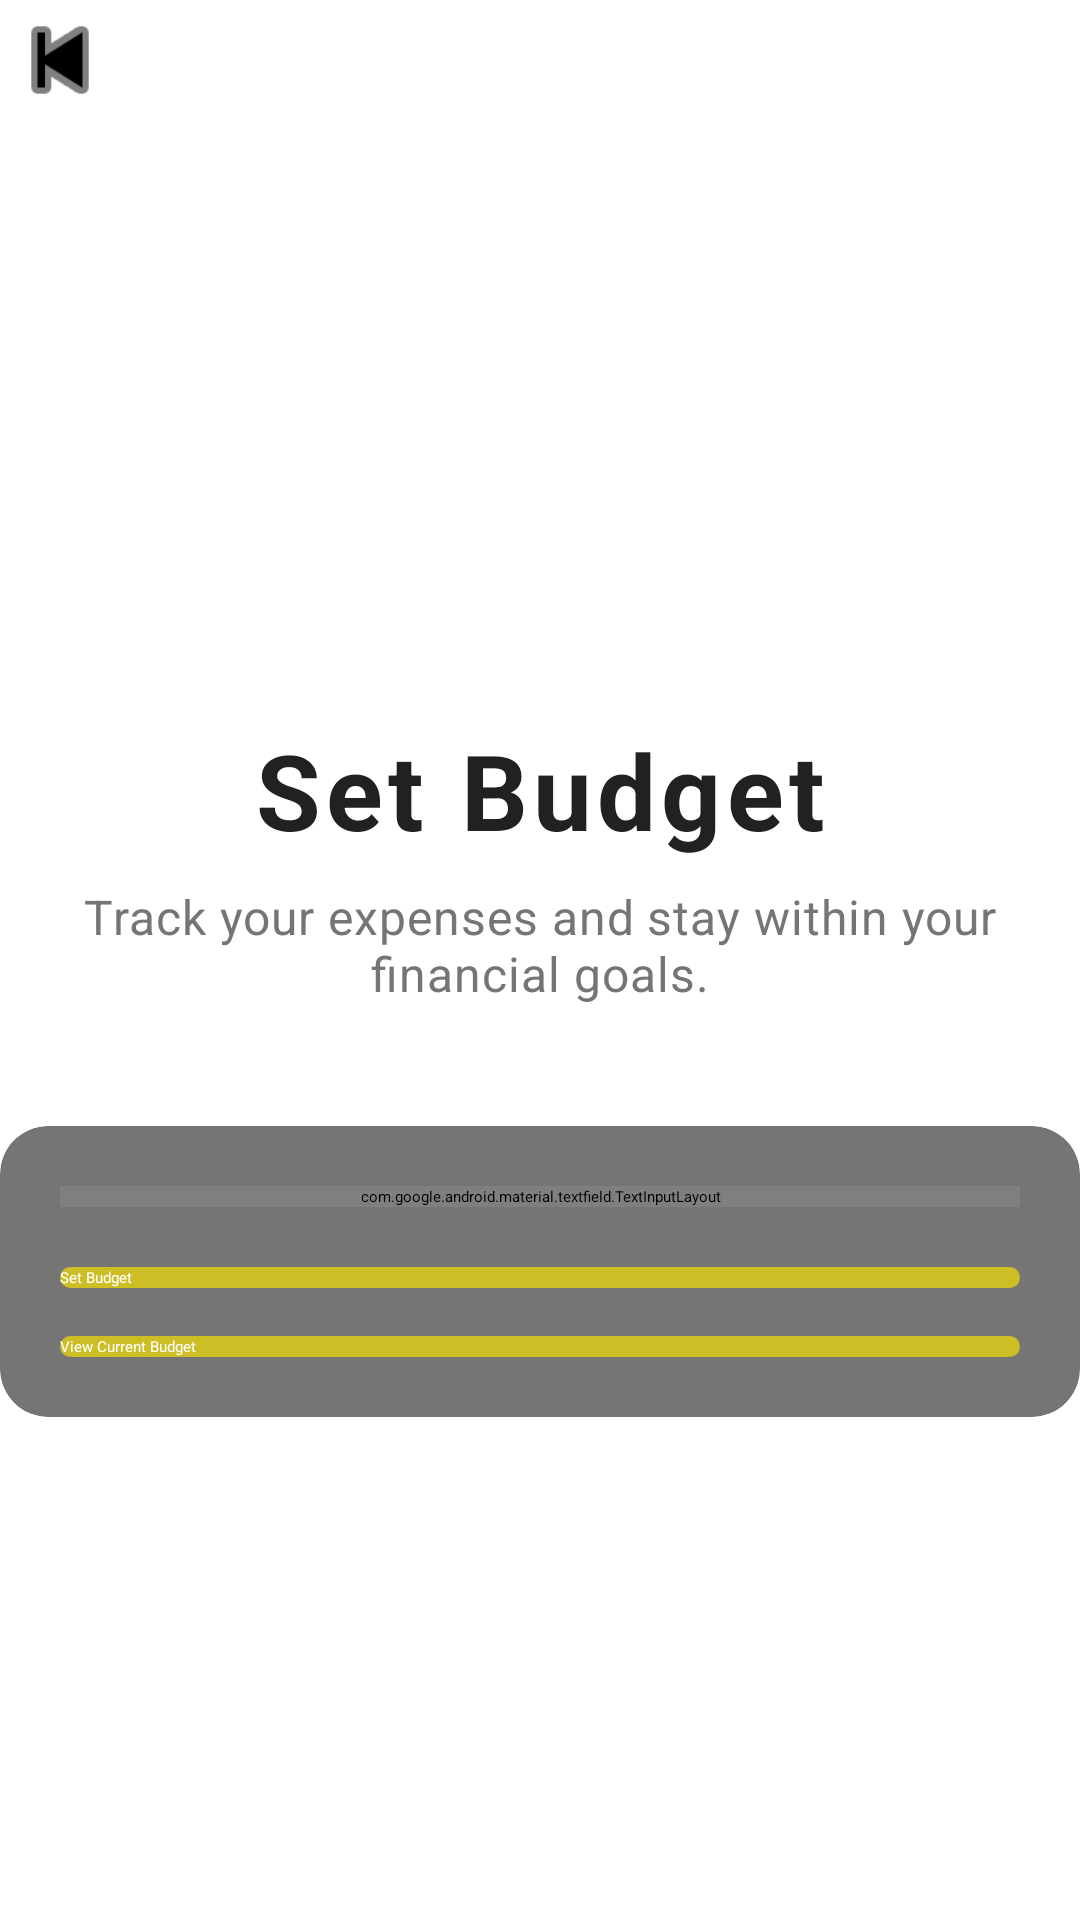

Screen size 1080 × 1920. Icon name, then its box in pixels as [x1, y1, x2, y2]:
previous: [31, 26, 89, 94]
